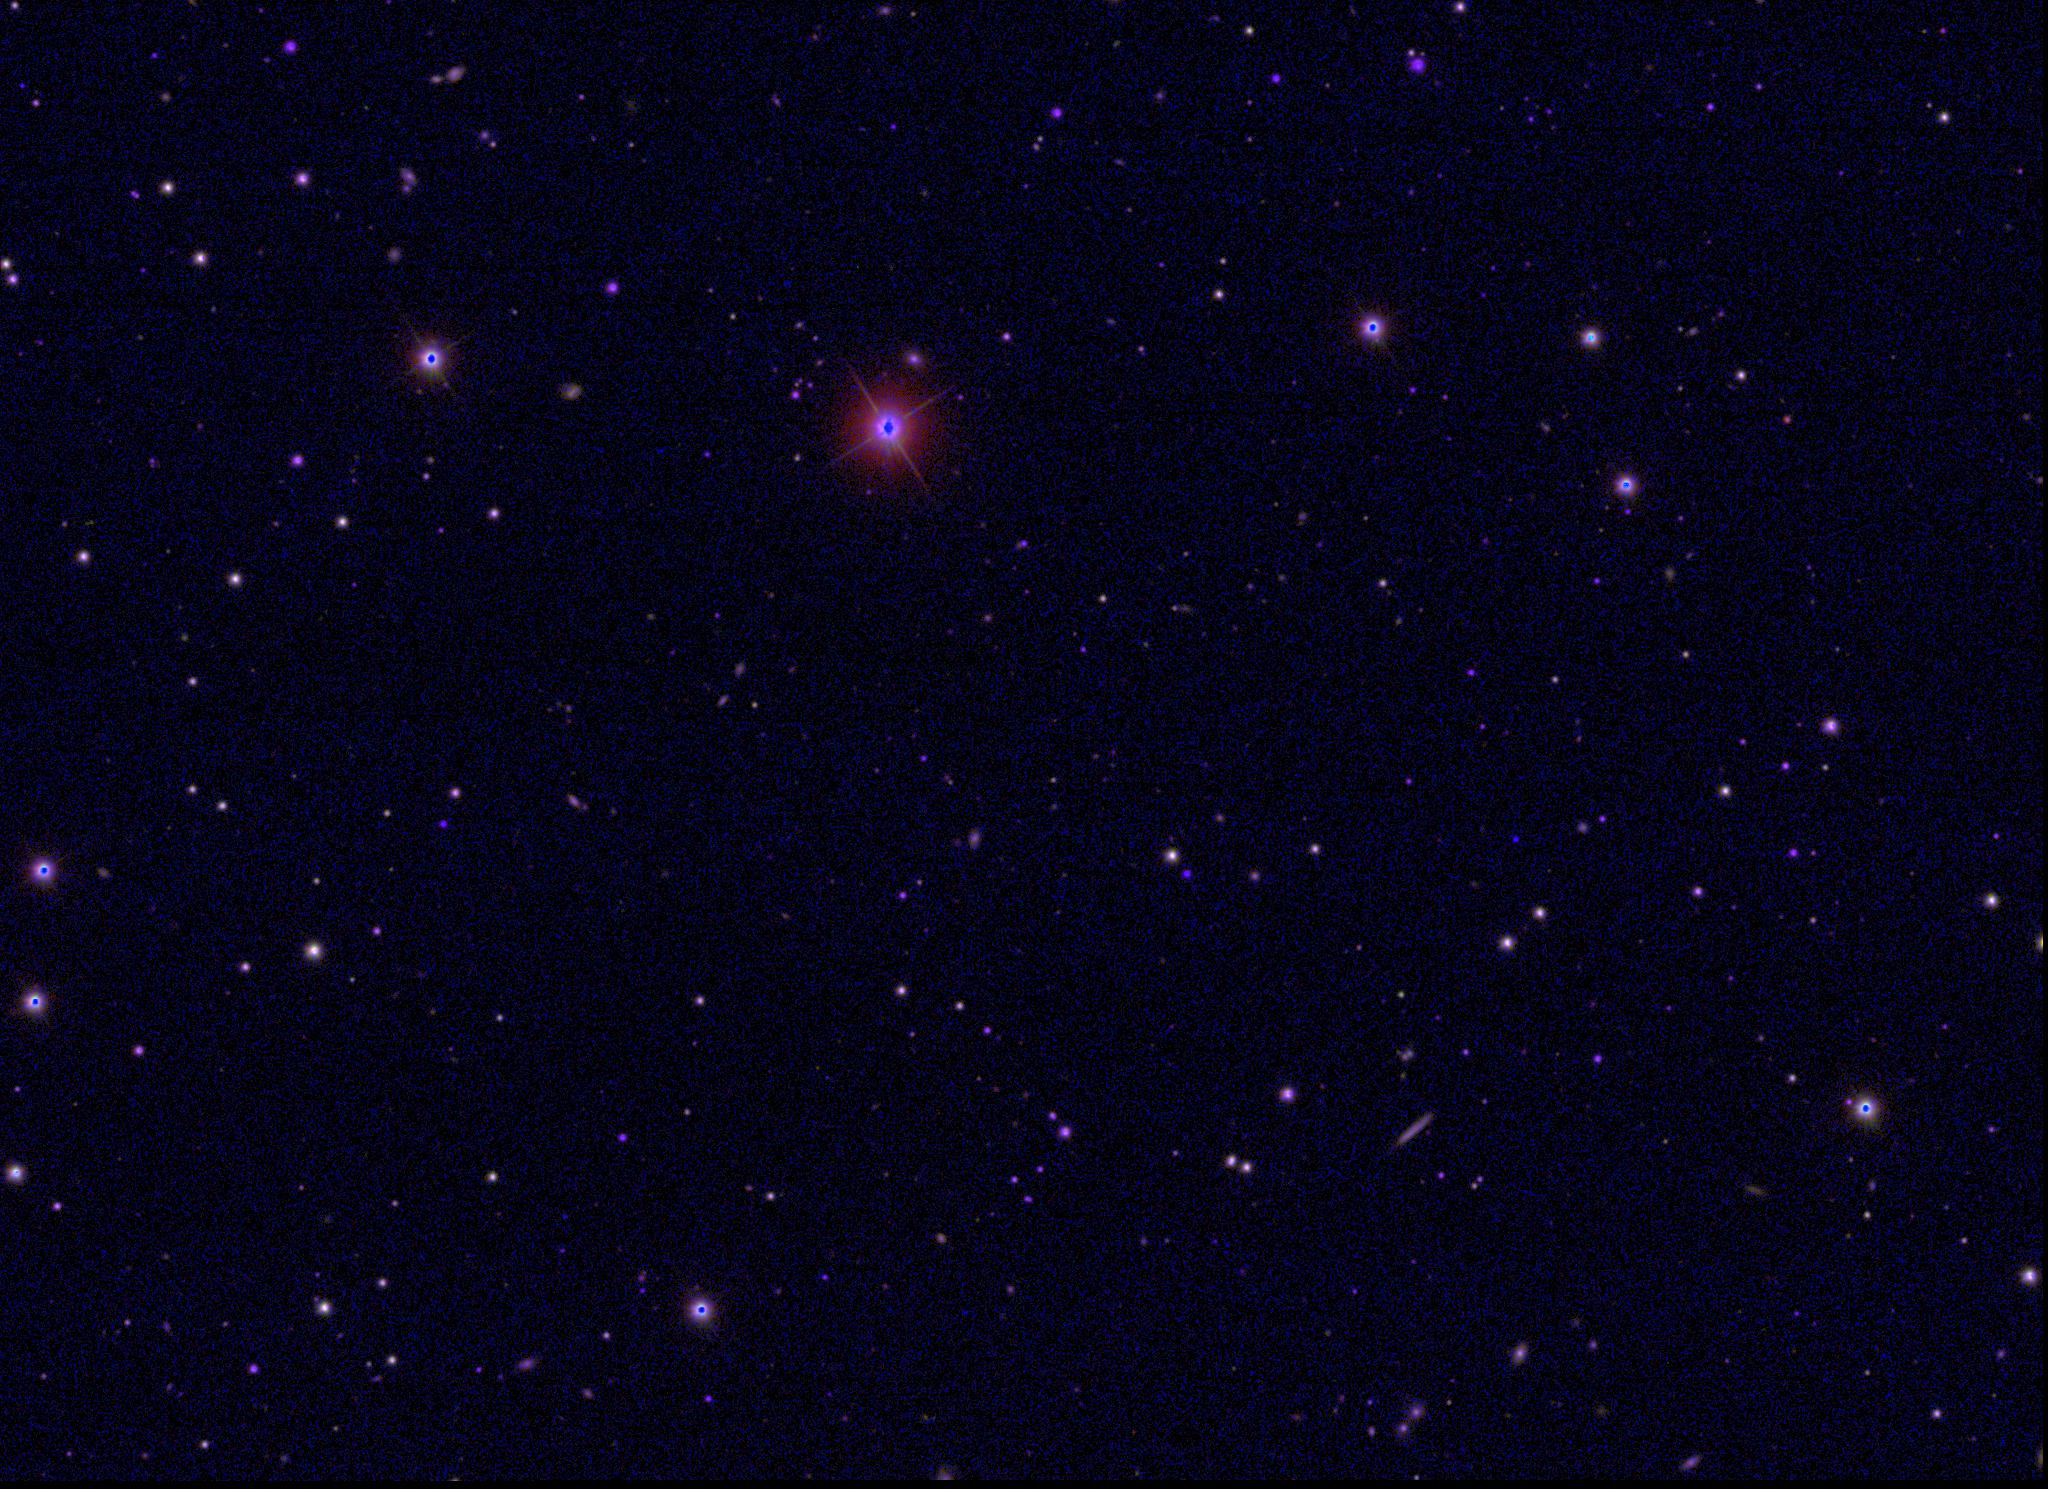L: (1509, 832, 1523, 846)
